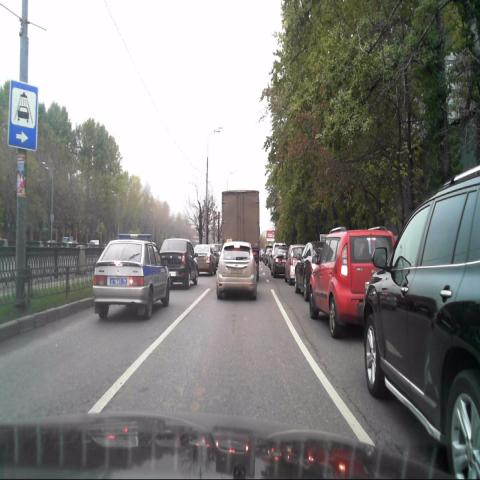7_5: (7, 77, 39, 152)
